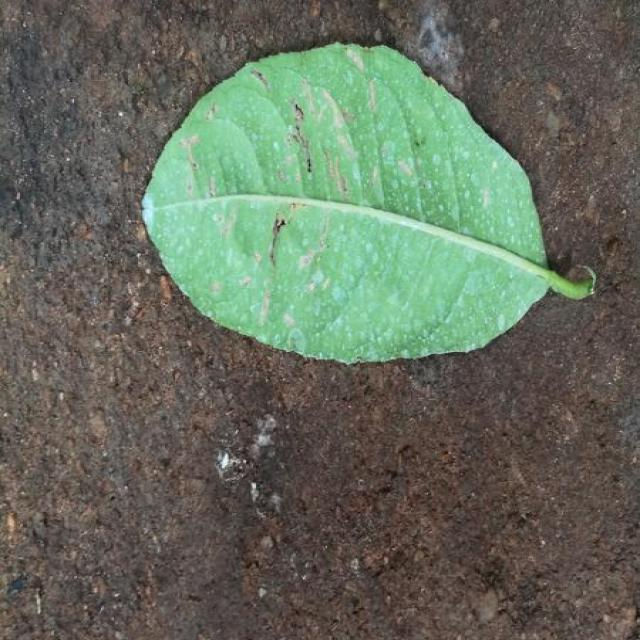badipala: (143, 44, 595, 362)
defectedbadipala: (210, 52, 362, 362)
